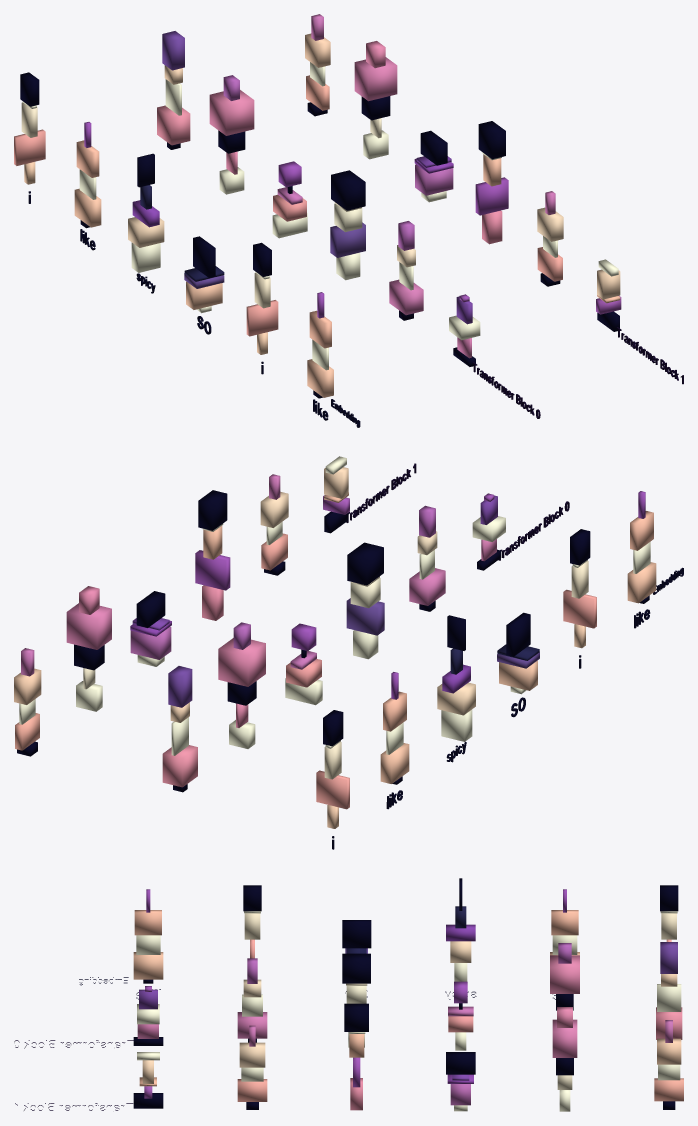
File: forward-pass-out-of-distribution.gltf
3 renders of one model, top to bottom at view 1: azimuth 30°, elevation 25°; view 2: azimuth 150°, elevation 25°; view 3: azimuth 270°, elevation 25°, orthographic. The views are drawn at different scales.
Visible parts, largest first — view 1: Renderer Node; view 2: Renderer Node; view 3: Renderer Node.
Part boxes in pixels (<box>): Renderer Node: <box>14,14,683,427</box>; Renderer Node: <box>14,456,683,849</box>; Renderer Node: <box>14,878,683,1111</box>.
Bounding box in the file's own units: 11 × 4.43 × 22.52.
